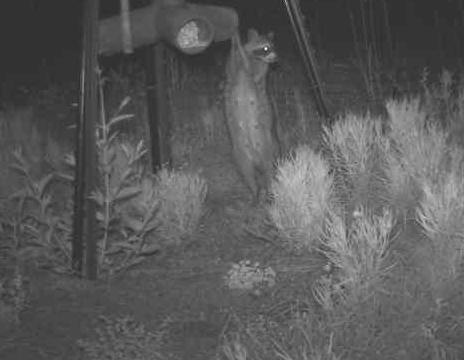Raccoon: (218, 27, 279, 213)
